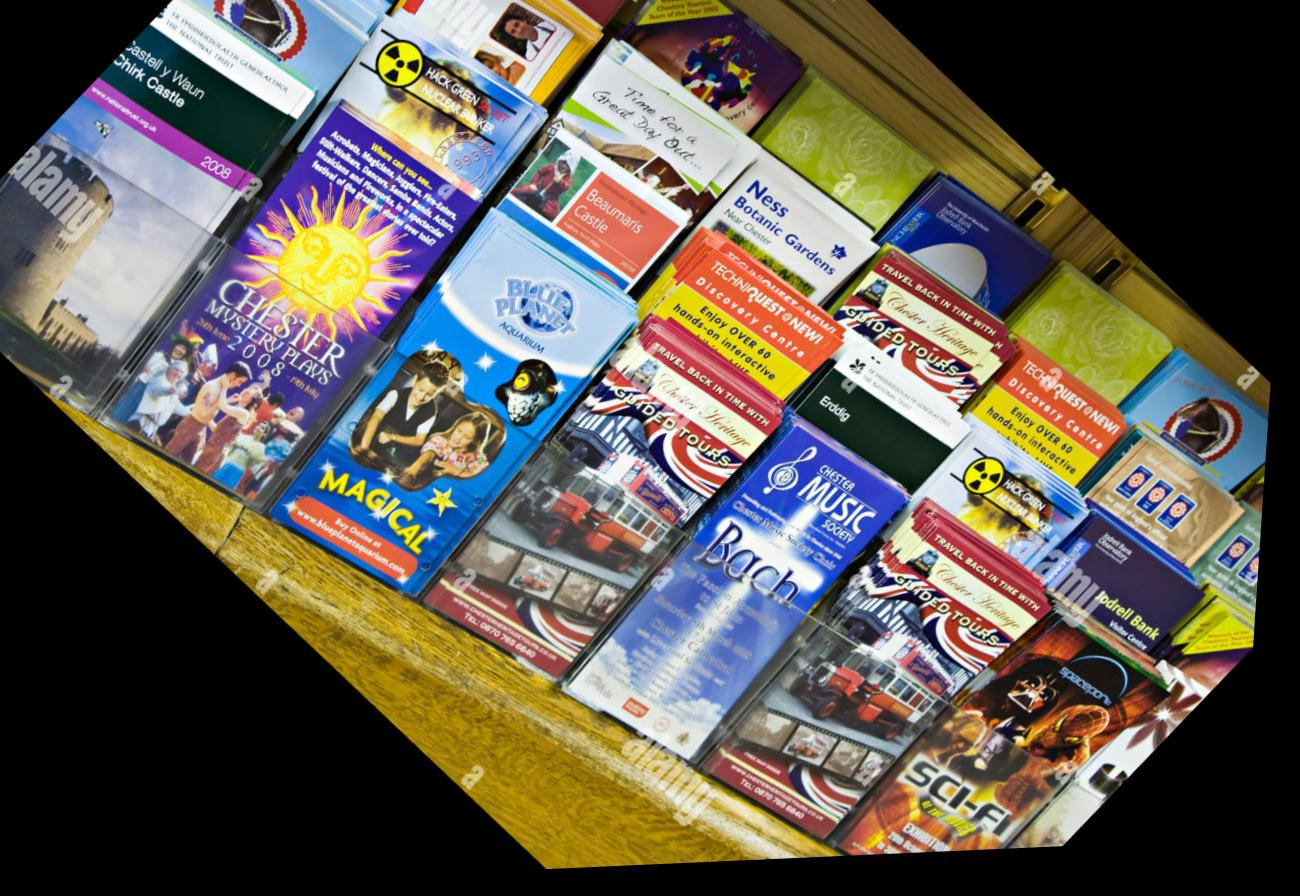paper: (215, 0, 869, 614), (653, 226, 1281, 864), (362, 65, 992, 697), (511, 167, 1121, 780), (45, 0, 718, 523), (0, 0, 561, 407)
